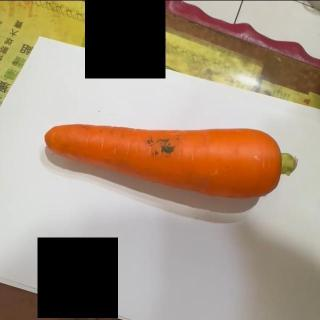carrot: (46, 121, 298, 199)
